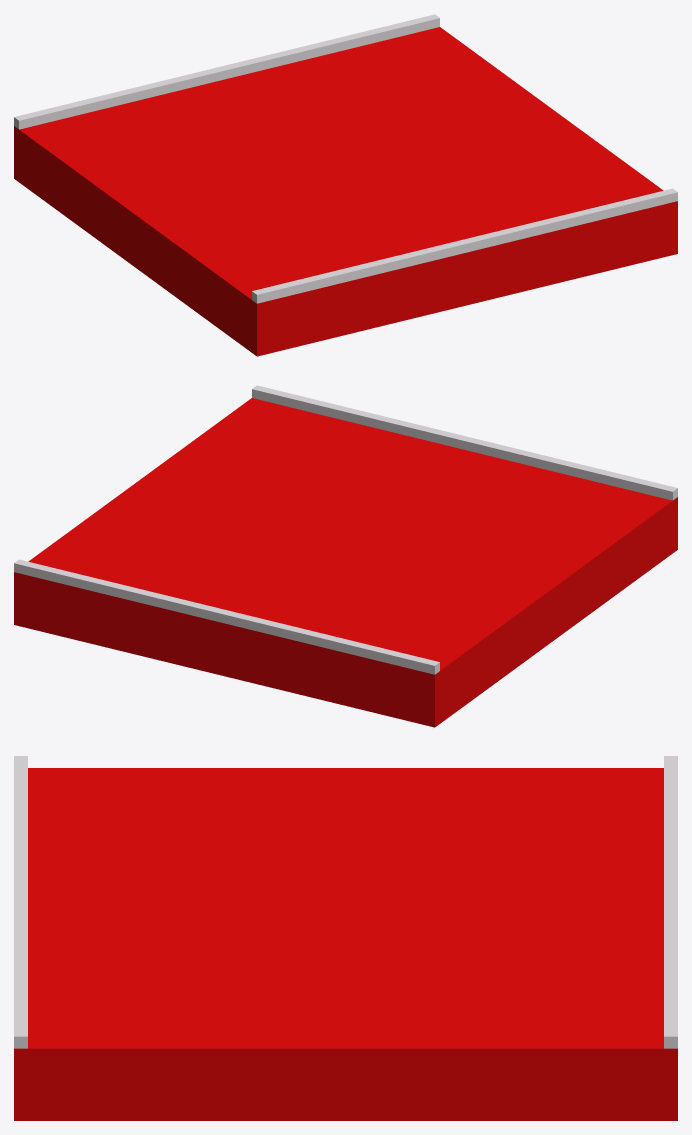
File: 2side_border.glb
3 views of the same model, one above another, from view 1: azimuth 30°, elevation 25°; view 2: azimuth 150°, elevation 25°; view 3: azimuth 270°, elevation 25° (orthographic). The views are drawn at different scales.
Parts seen in each view (by area): view 1: 2side_border, center.021, center.022; view 2: 2side_border, center.021, center.022; view 3: 2side_border, center.021, center.022.
Part boxes in pixels (x1,y1,x2,y2): 2side_border: (14, 27, 677, 356); center.021: (14, 14, 439, 129); center.022: (252, 188, 677, 303); 2side_border: (14, 398, 677, 727); center.021: (14, 559, 439, 674); center.022: (252, 385, 677, 500); 2side_border: (14, 768, 677, 1120); center.021: (664, 756, 677, 1048); center.022: (14, 756, 27, 1048).
Size of the model in its own units: 1 by 0.14 by 1.
